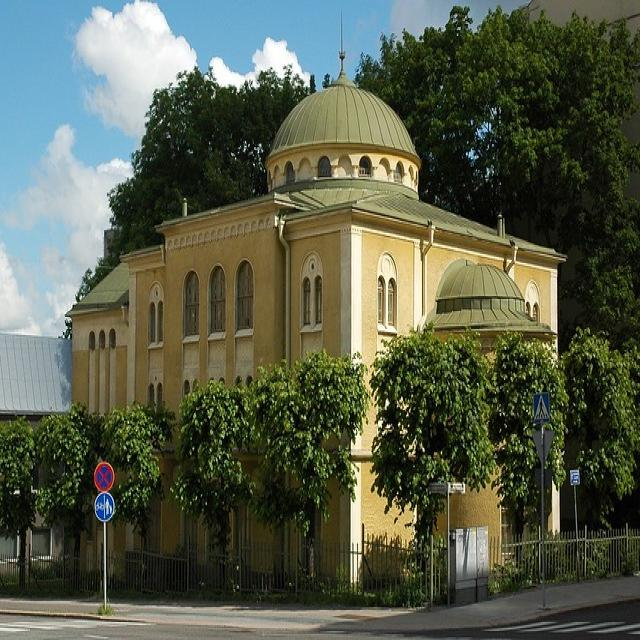Normal_building: (63, 73, 569, 602)
